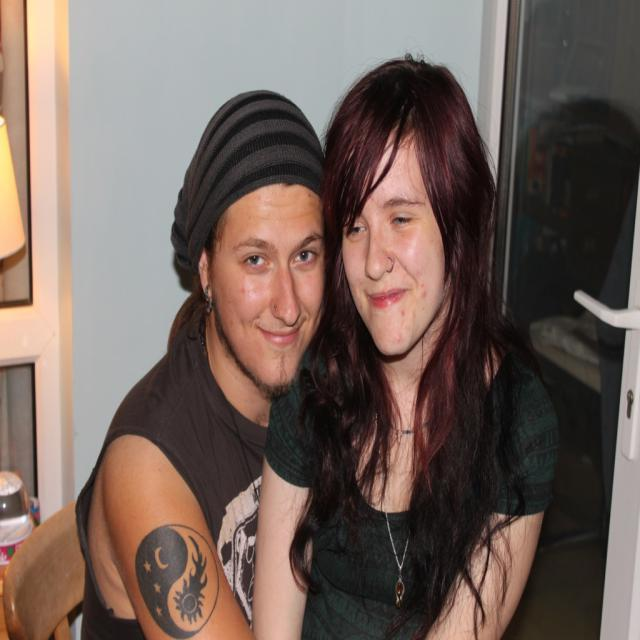closed-mouth: (371, 284, 405, 312), (262, 321, 303, 342)
